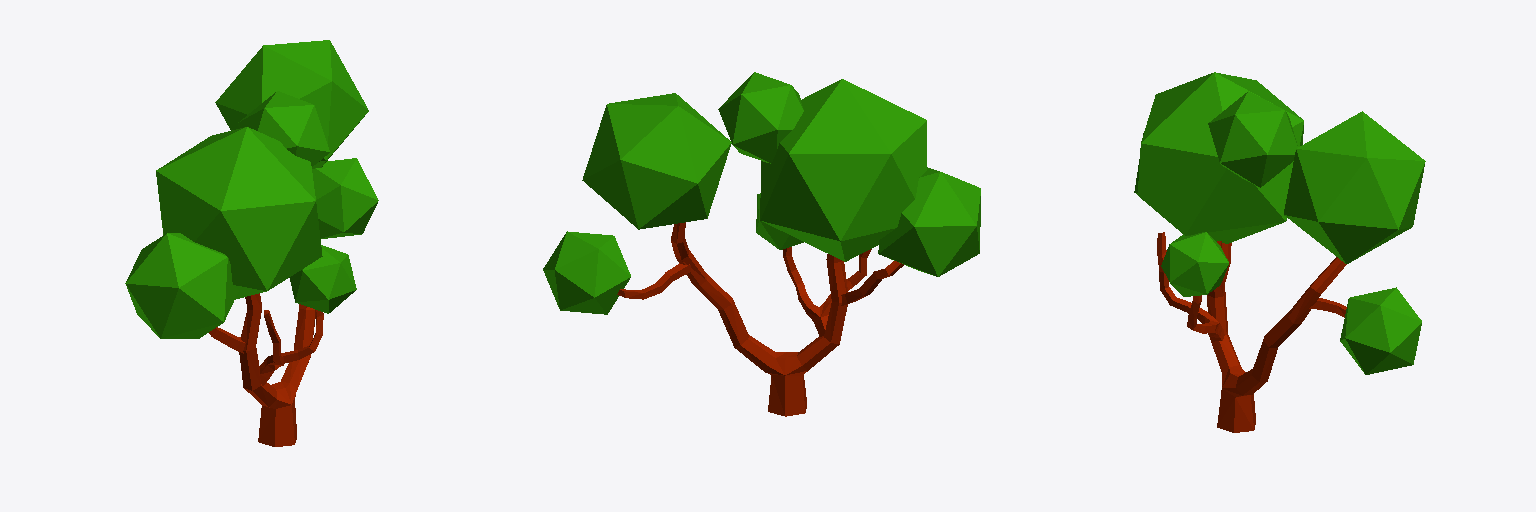
The model's file is lowpoly_tree.obj.
3 views of the same model, side by side, from view 1: azimuth 30°, elevation 25°; view 2: azimuth 150°, elevation 25°; view 3: azimuth 270°, elevation 25° (orthographic).
Parts seen in each view (by area): view 1: Default; view 2: Default; view 3: Default.
Part boxes in pixels (bbox=[...]): Default: bbox=[125, 40, 378, 446]; Default: bbox=[543, 72, 980, 416]; Default: bbox=[1134, 72, 1425, 432].
Size of the model in its own units: 19.59 by 18.58 by 14.56.